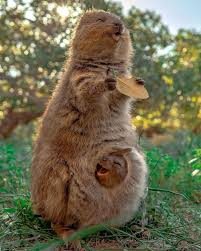quokka: (11, 5, 170, 239)
